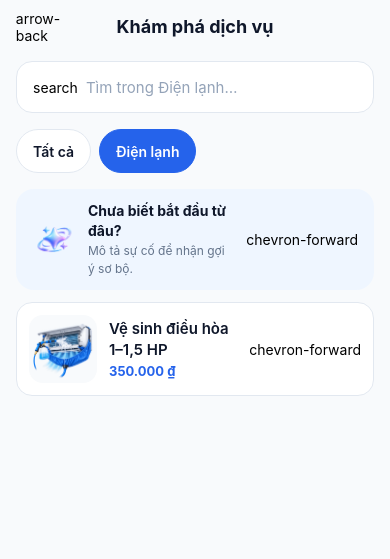
Test: customer service loader behavior (mocked servicesApi, C-RUI3 M1) › opens the entire category from a popular subset
The width and height of the screenshot is (390, 559).
What coordinates should you click on to do the following:
click the button "Tất cả"
I would click on:
 (54, 151)
Its box is top-left (16, 129), bottom-right (91, 173).
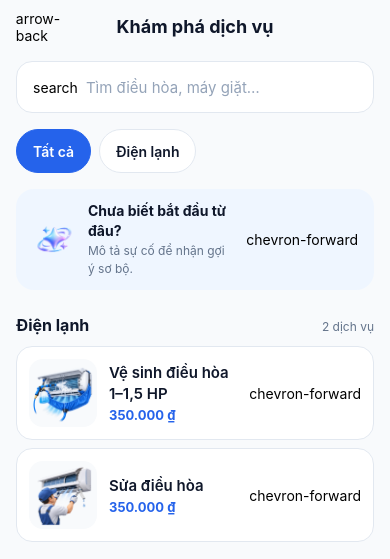
Check: the button "Sửa điều hòa 350.000 ₫ chevron-forward" is shown, box top-left (16, 448), bottom-right (374, 542)
